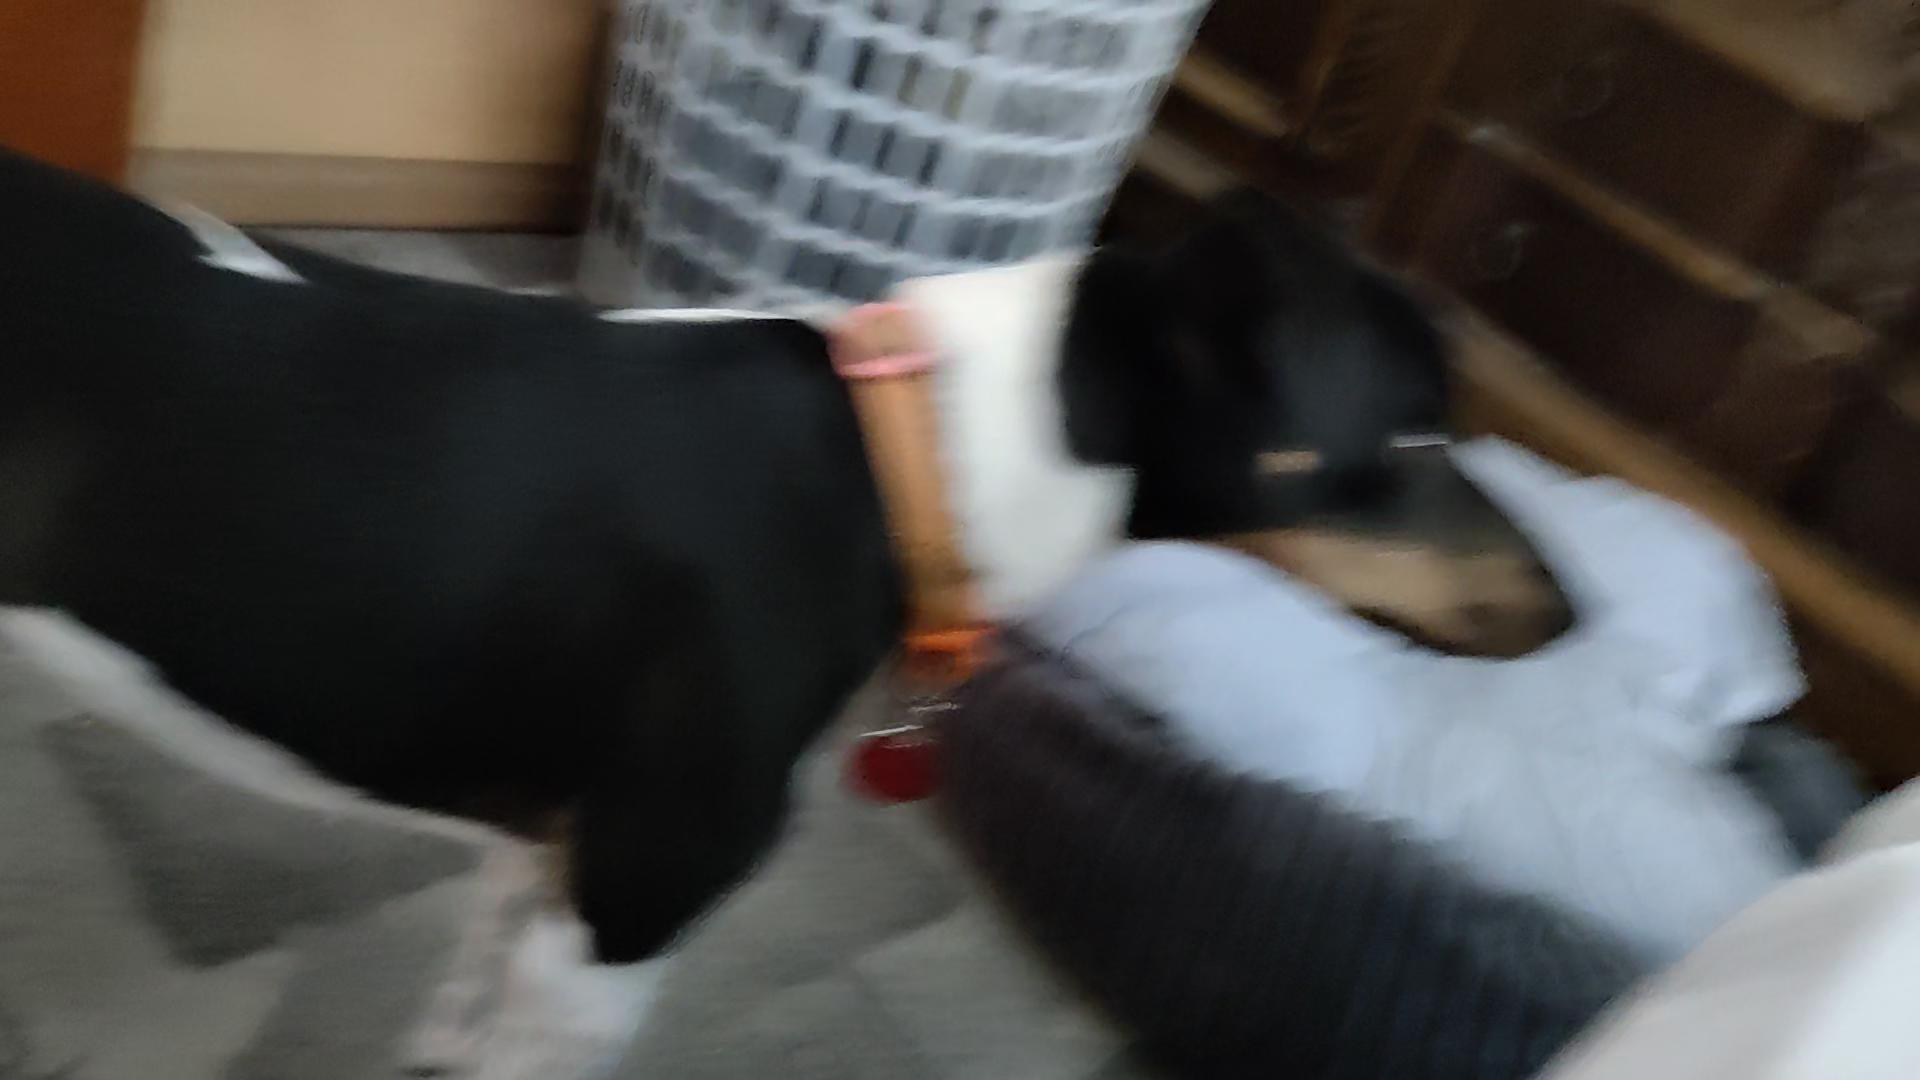Dog: (0, 133, 1594, 1079)
